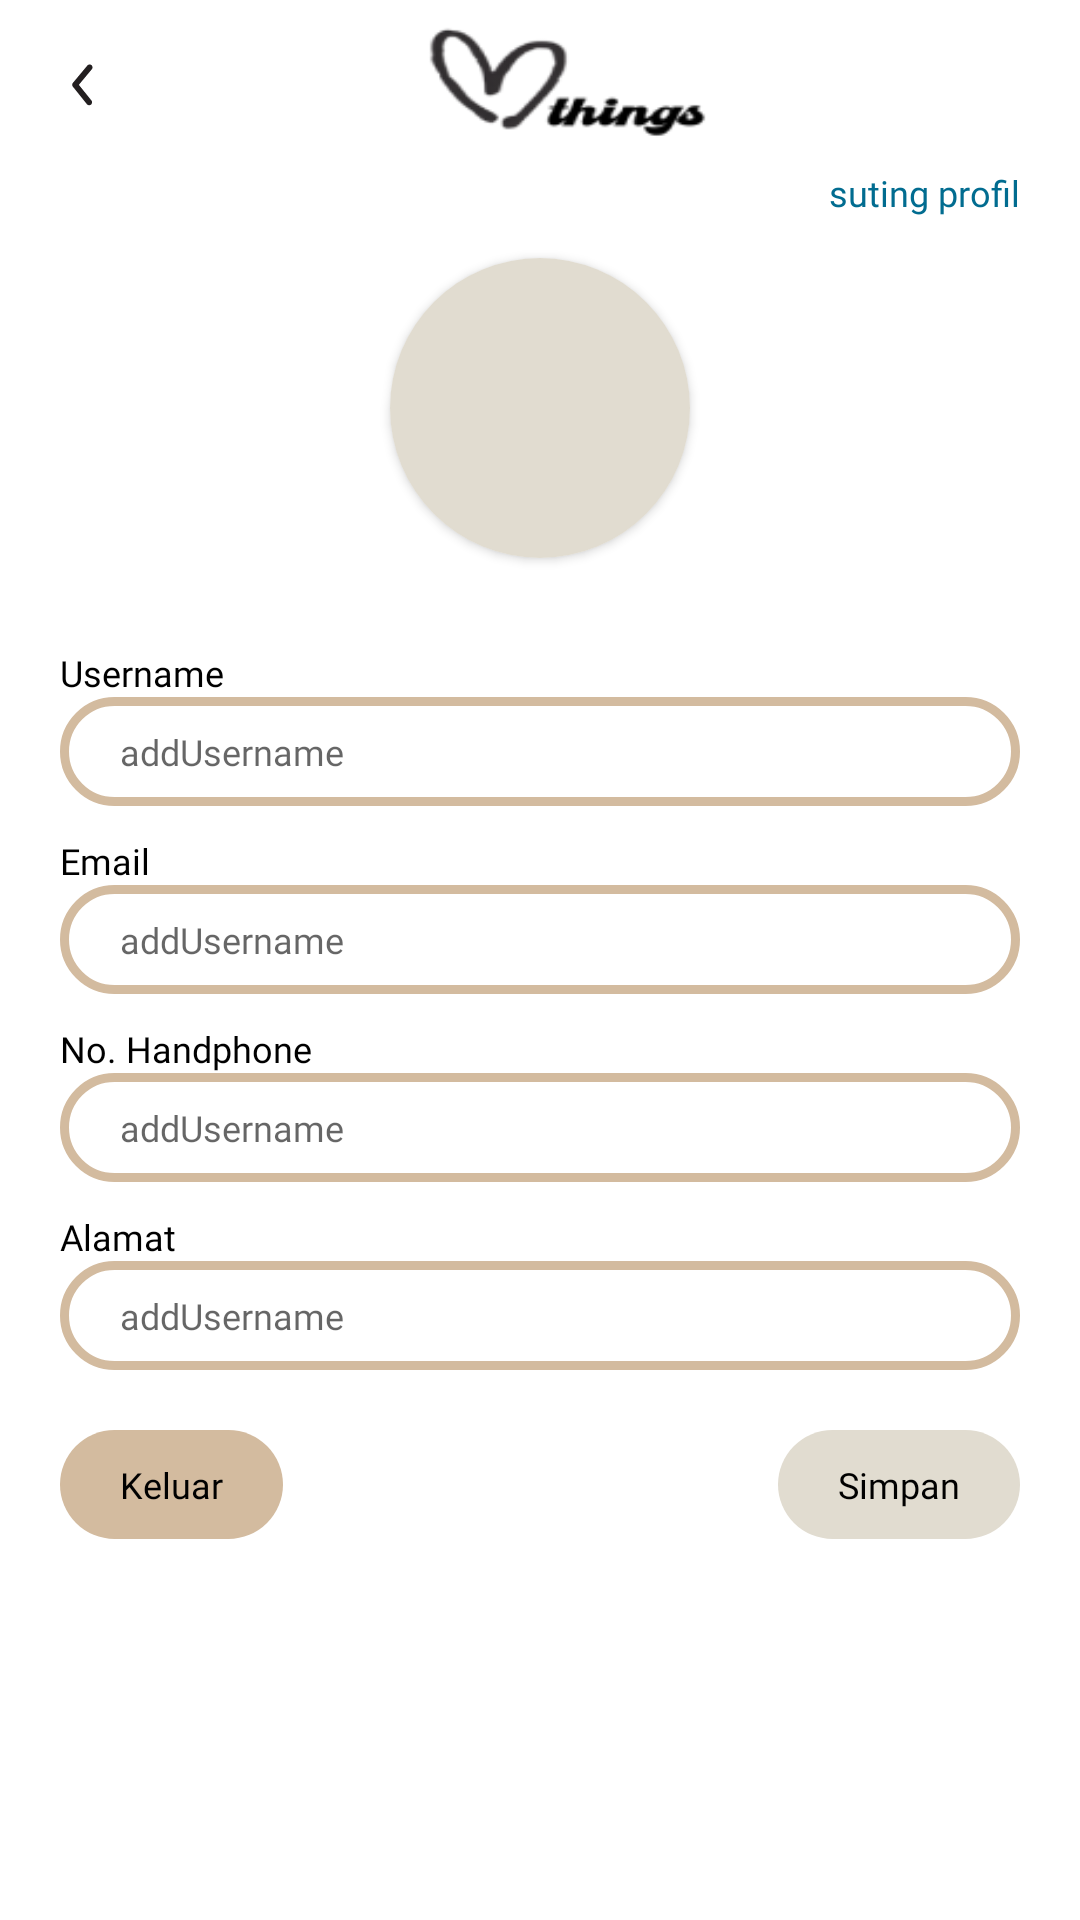

Where to tap for icons on this 1080 x 1920 app screen, as (x=x, y=y):
row left: (x=82, y=85)
